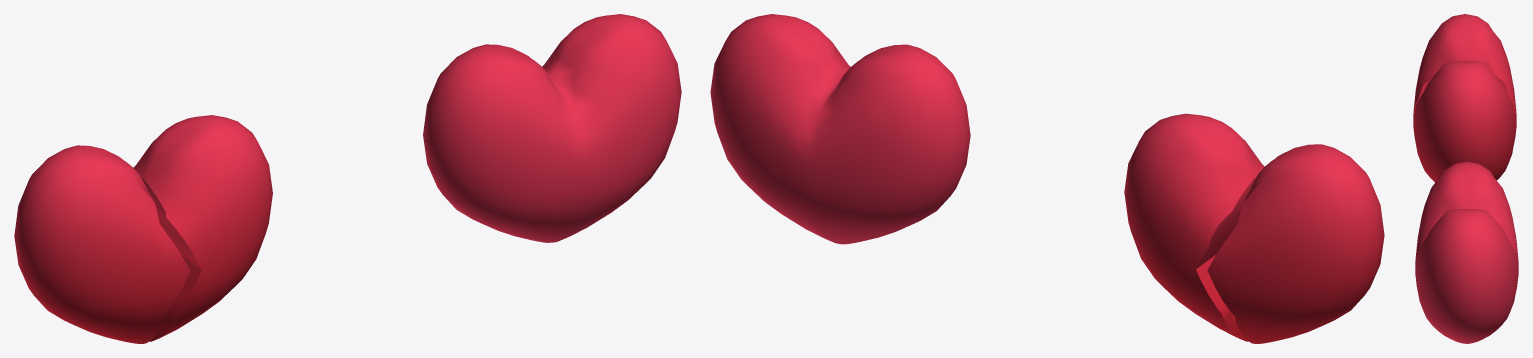
File: Hearts.fbx
The picture shows the model from 3 angles, left to right: view 1: azimuth 30°, elevation 25°; view 2: azimuth 150°, elevation 25°; view 3: azimuth 270°, elevation 25°; orthographic projection. The views are drawn at different scales.
Visible parts, largest first — view 1: Heart.003, Heart.004, BrokenHeart.001; view 2: Heart.003, Heart.004, BrokenHeart.001; view 3: Heart.003, BrokenHeart.001, Heart.004.
Part boxes in pixels (box(x1,y1,x2,y2)): Heart.003: box(423, 14, 681, 242); Heart.004: box(14, 145, 190, 343); BrokenHeart.001: box(133, 115, 272, 341); Heart.003: box(710, 14, 970, 244); Heart.004: box(1207, 144, 1384, 343); BrokenHeart.001: box(1124, 113, 1264, 341); Heart.003: box(1415, 161, 1518, 343); BrokenHeart.001: box(1414, 61, 1515, 182); Heart.004: box(1413, 14, 1516, 139).
Size of the model in its own units: 486 by 147 by 91.81.
